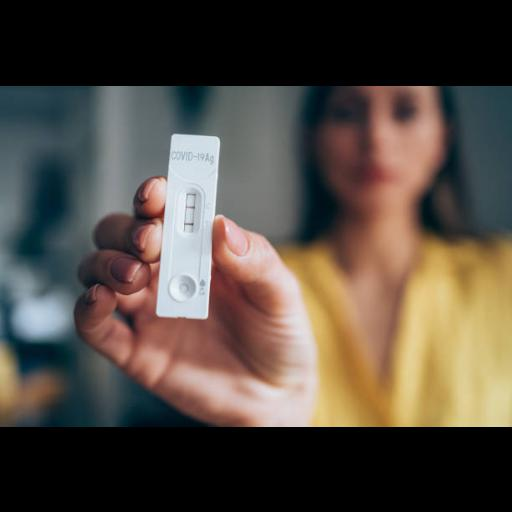Pos: (156, 134, 219, 319)
